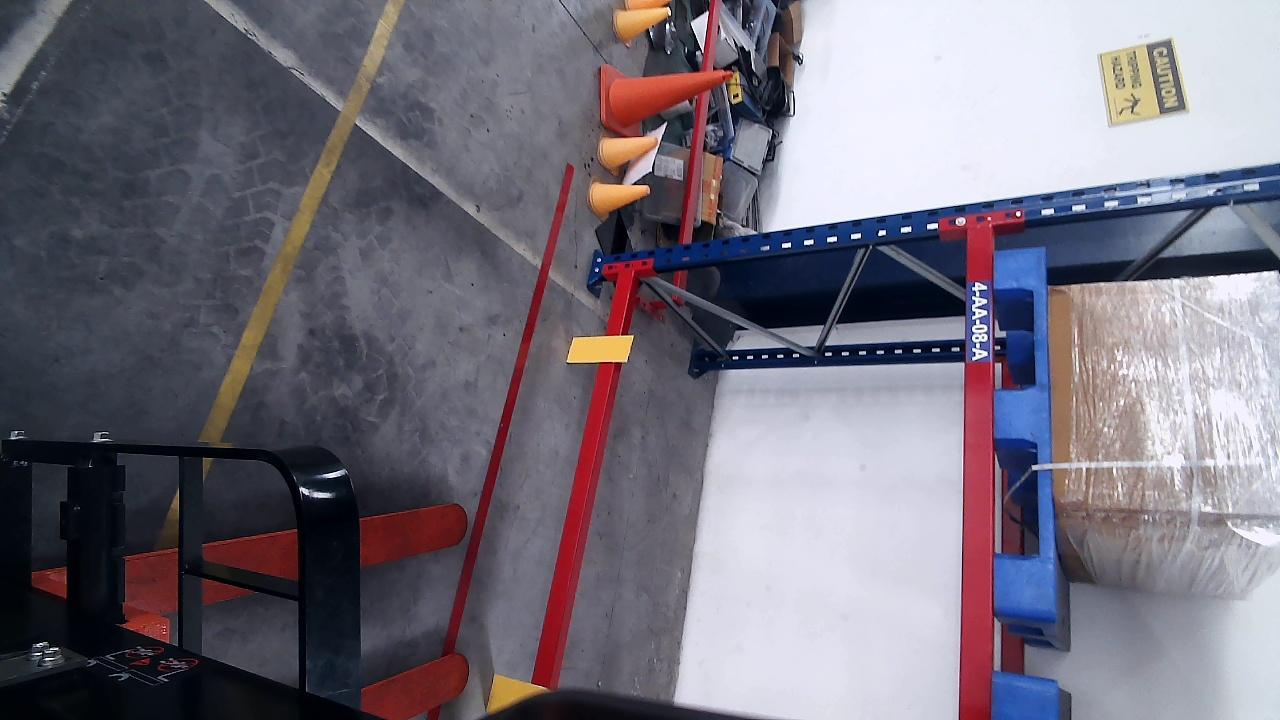h_rack: (529, 271, 638, 688), (958, 226, 991, 720)
orange_strip: (565, 333, 633, 360)
red_line: (444, 162, 575, 653)
small_pallet: (995, 248, 1052, 609)
yellow_line: (194, 3, 402, 444)
